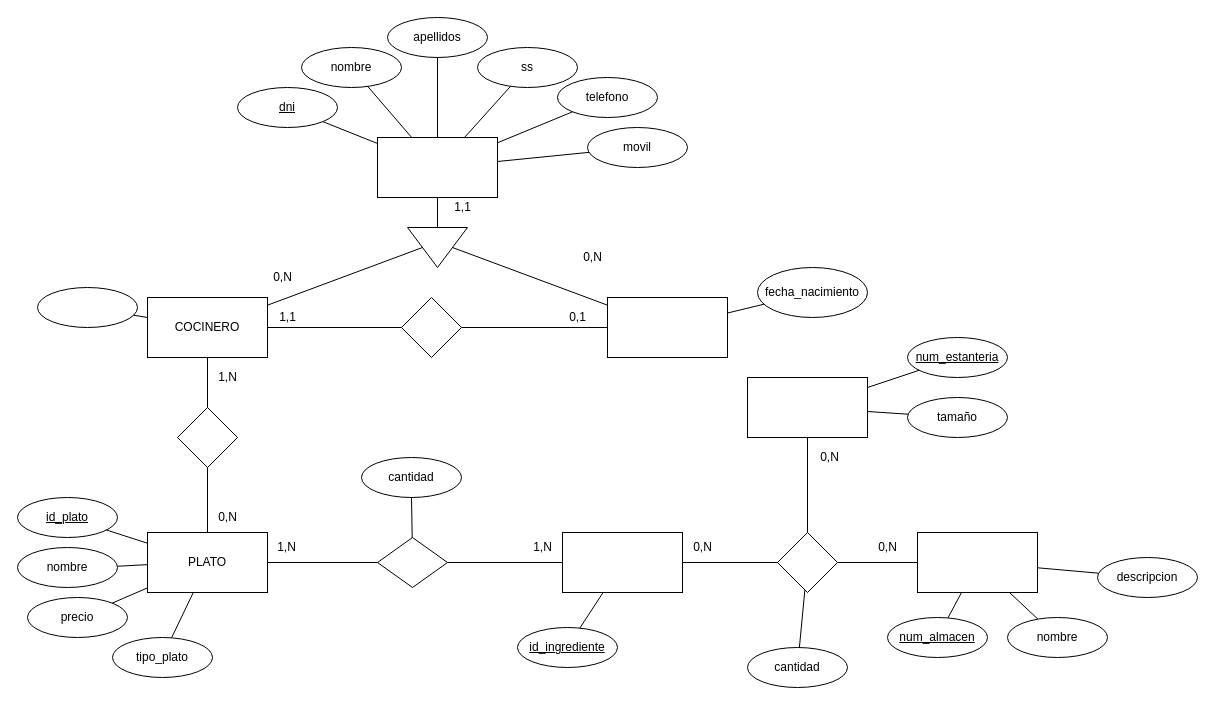
Image size: 1215x705. Some labels were removed from this diagram. Here are the shapes that lost their labels. From the top down, the centre of each, then its label:
[437,167]: EMPLEADO
[87,307]: anos_servicio
[431,327]: cargo
[667,327]: PINCHE
[807,407]: ESTANTERIA
[207,437]: prepara
[412,562]: lleva
[622,562]: INGREDIENTE
[807,562]: esta
[977,562]: ALMACEN
